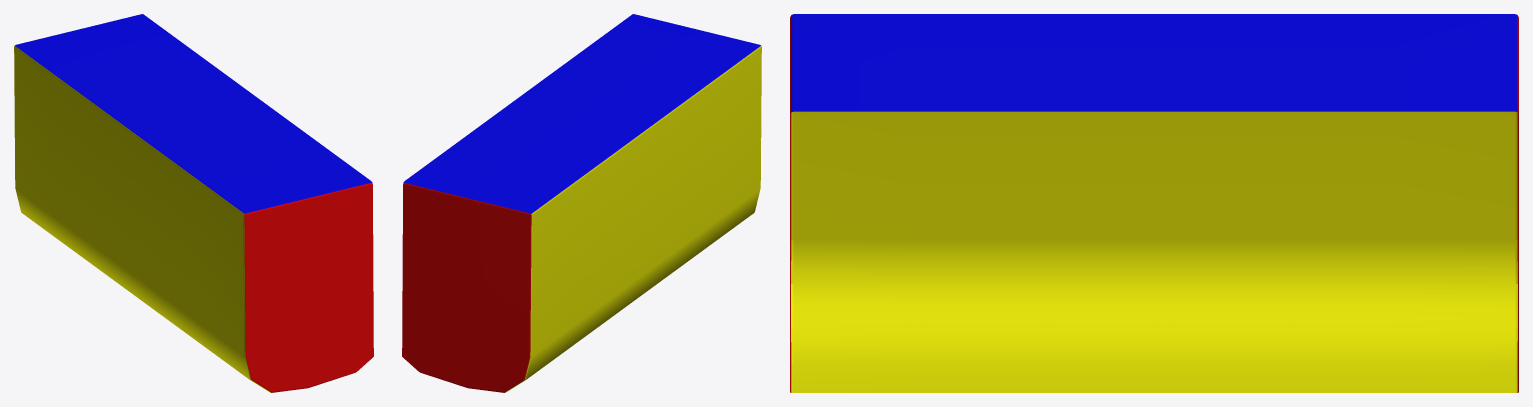
Rendered from big_log2.fbx.
The picture shows the model from 3 angles, left to right: view 1: azimuth 30°, elevation 25°; view 2: azimuth 150°, elevation 25°; view 3: azimuth 270°, elevation 25°; orthographic projection. The views are drawn at different scales.
Parts seen in each view (by area): view 1: polySurface99; view 2: polySurface99; view 3: polySurface99.
Boxes of the visible parts, x1,y1,x2,y2 form: polySurface99: [14, 14, 373, 392]; polySurface99: [402, 14, 761, 392]; polySurface99: [790, 14, 1518, 392].
Bounding box in the file's own units: 92.87 × 131 × 286.
